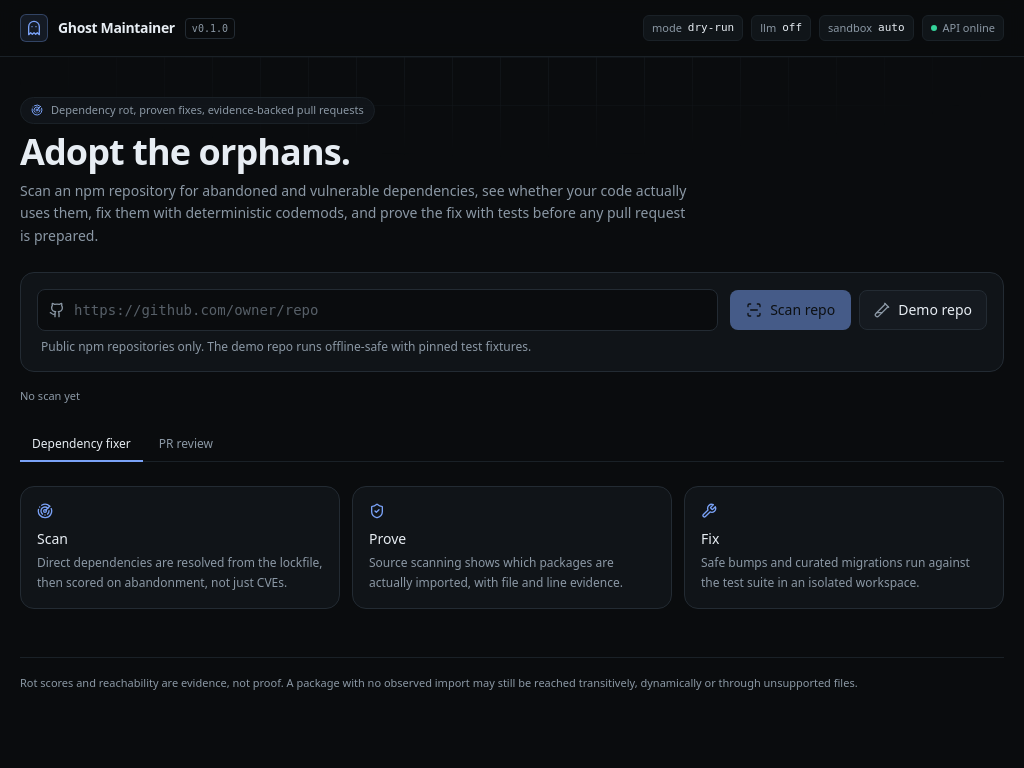
Test: dashboard shell › validates the repository URL inline
Type "not-a-repo" into the field named "github repository url" at {"x": 378, "y": 310}, box [37,289,718,331]
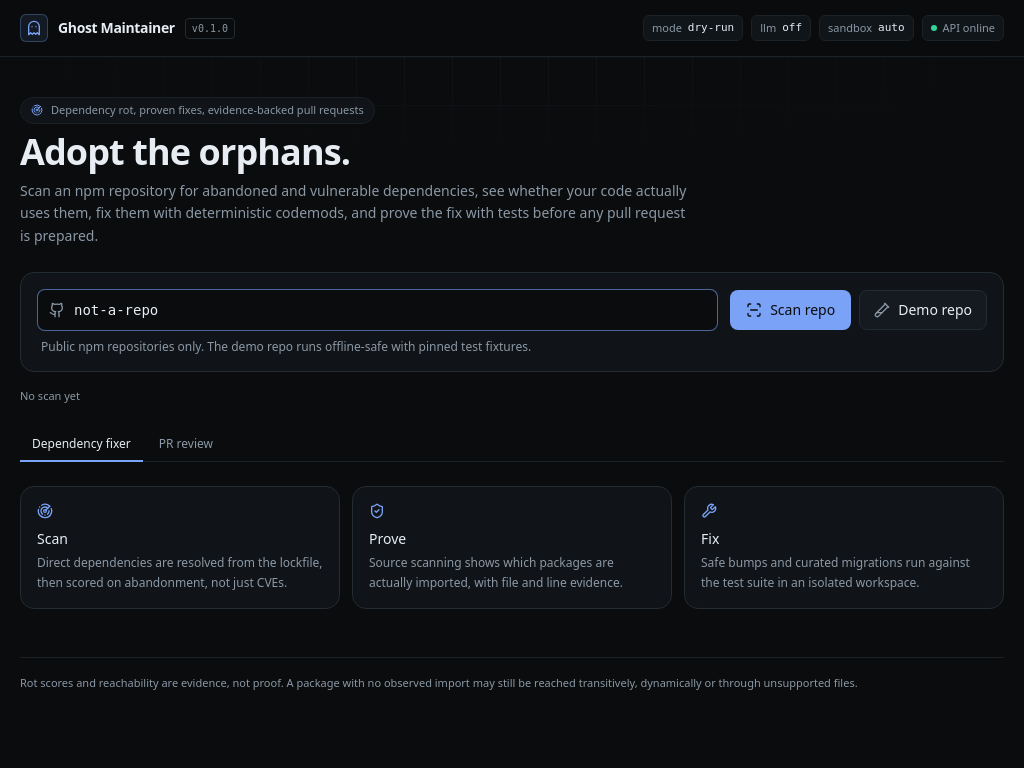
Press Tab
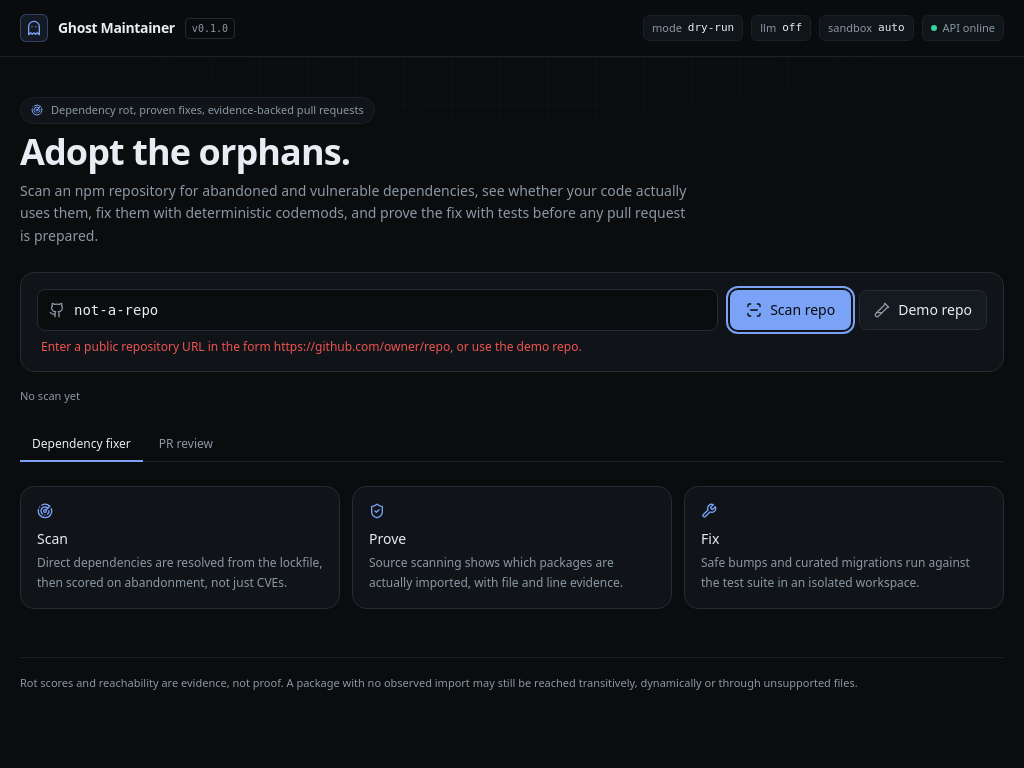
expect the button "Scan repo" is enabled: met, box [730,290,851,330]
expect the text "Enter a public repository URL" is shown: met, box [41,338,582,355]
